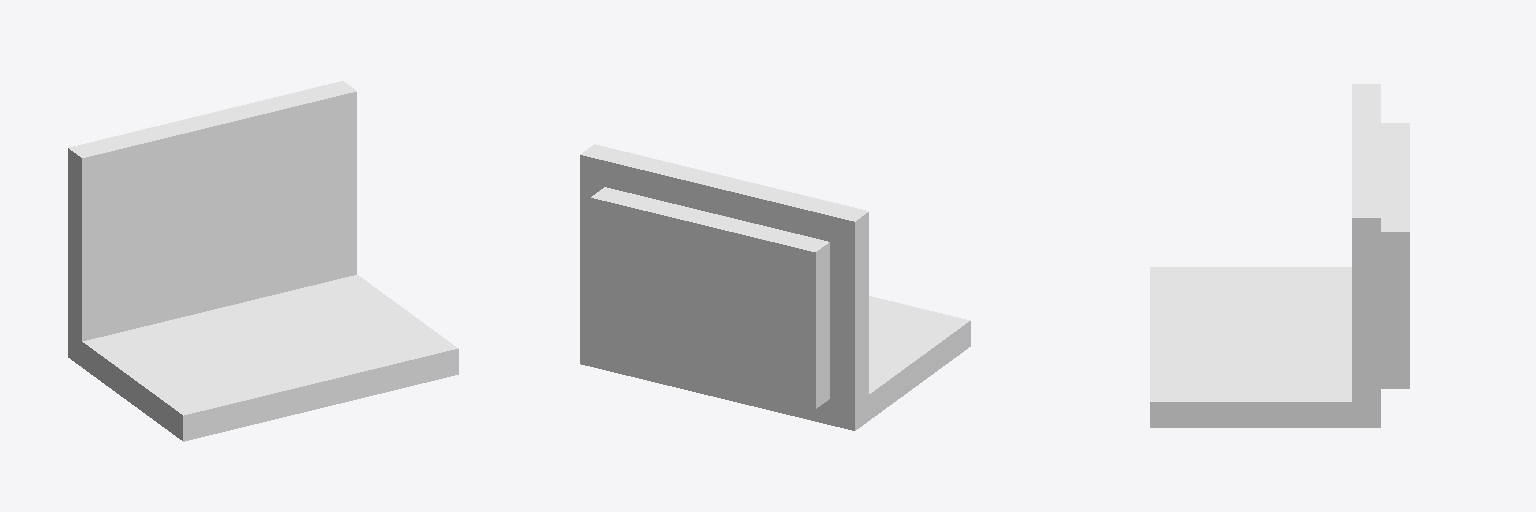
File: Decor-15.obj
3 views of the same model, side by side, from view 1: azimuth 30°, elevation 25°; view 2: azimuth 150°, elevation 25°; view 3: azimuth 270°, elevation 25° (orthographic).
Visible parts, largest first — view 1: object 1; view 2: object 1; view 3: object 1.
Part boxes in pixels (x1,y1,x2,y2): object 1: (68, 81, 458, 441); object 1: (580, 144, 970, 430); object 1: (1150, 84, 1409, 427).
Size of the model in its own units: 1.1 by 0.8 by 0.9.